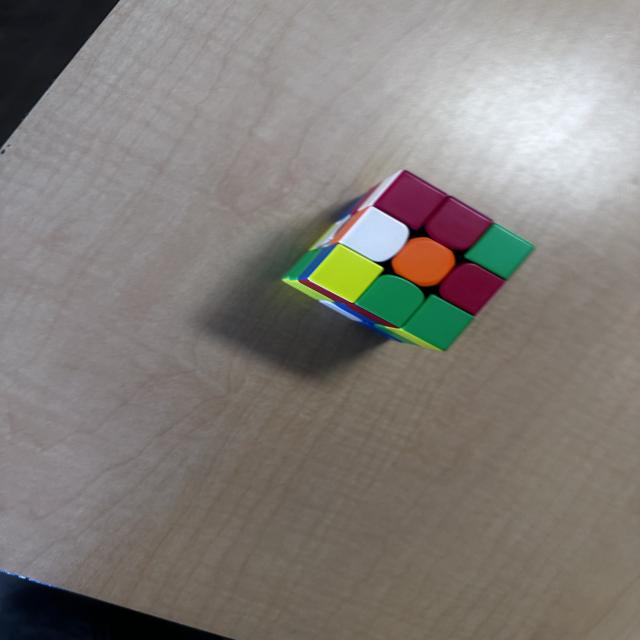sticker: (302, 243, 384, 305), (374, 170, 446, 232), (399, 294, 473, 352), (335, 206, 411, 262), (464, 224, 536, 281), (424, 197, 493, 253), (438, 261, 506, 317), (354, 275, 424, 328), (391, 237, 456, 288)
